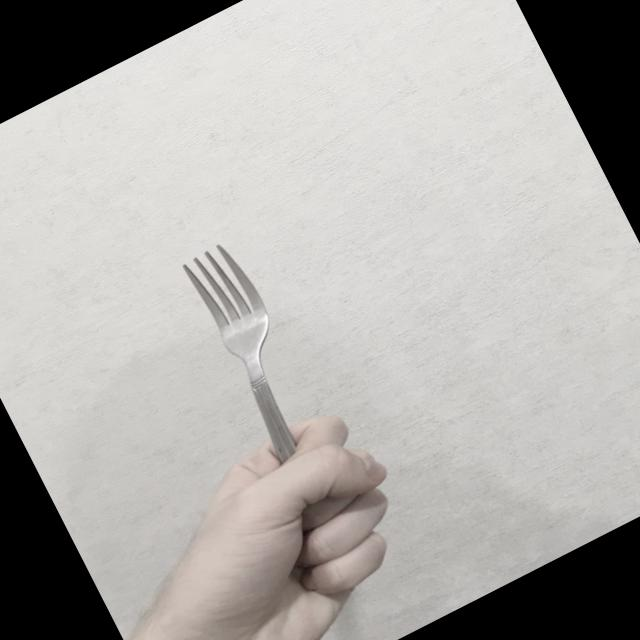fork: (176, 234, 352, 496)
